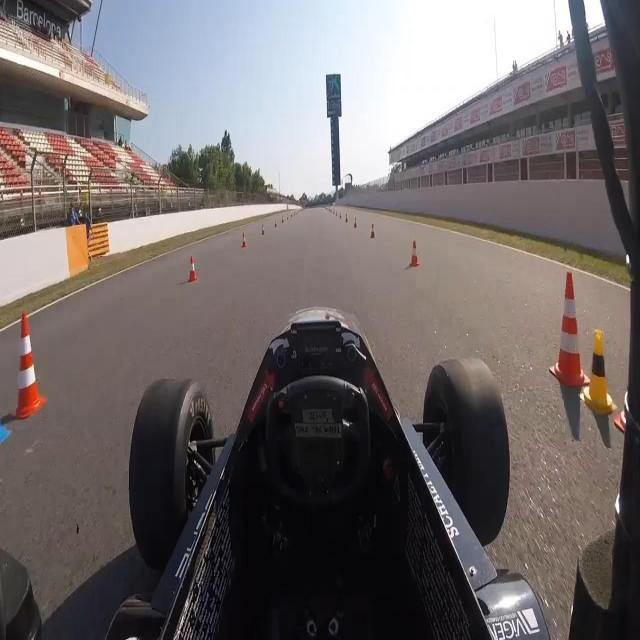large_orange_cone: (550, 269, 591, 388), (12, 311, 47, 419)
orange_cone: (410, 240, 420, 268), (188, 256, 198, 282)
yellow_cone: (579, 329, 617, 416)
